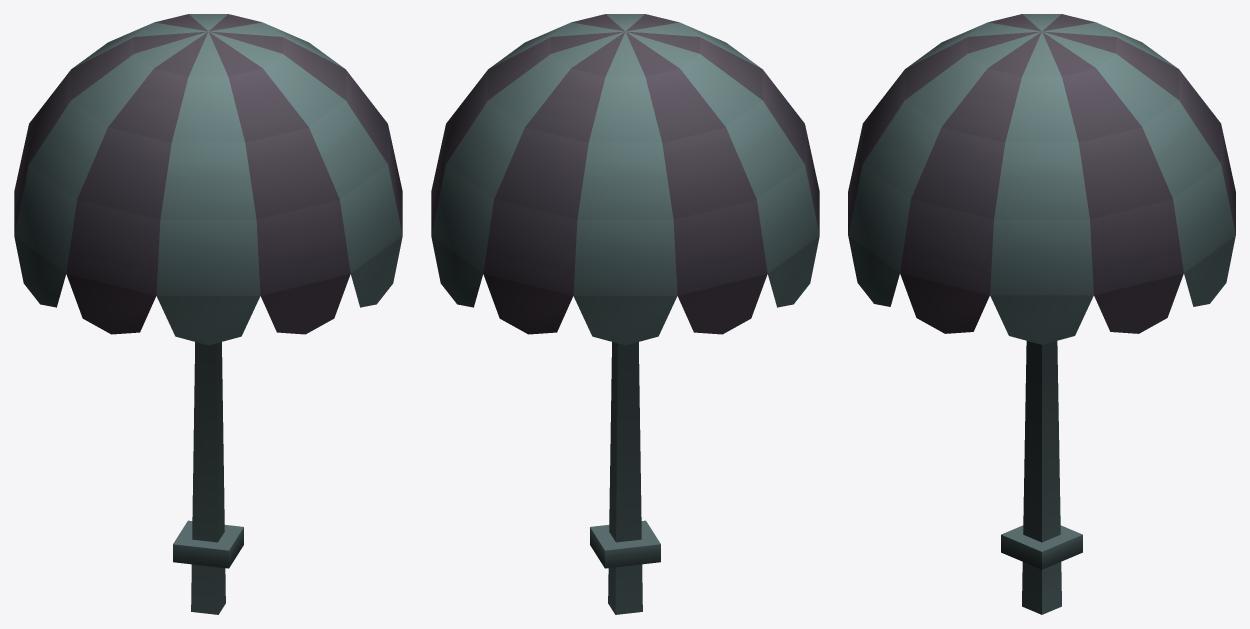
Rendered from Umbrella_1C.fbx.
The picture shows the model from 3 angles, left to right: view 1: azimuth 30°, elevation 25°; view 2: azimuth 150°, elevation 25°; view 3: azimuth 270°, elevation 25°; orthographic projection.
Parts seen in each view (by area): view 1: Umbrella_1C; view 2: Umbrella_1C; view 3: Umbrella_1C.
Boxes of the visible parts, left/top/right/bottom form: Umbrella_1C: left=14, top=14, right=402, bottom=614; Umbrella_1C: left=431, top=14, right=819, bottom=614; Umbrella_1C: left=848, top=14, right=1235, bottom=614.
Size of the model in its own units: 244 by 400 by 244.
